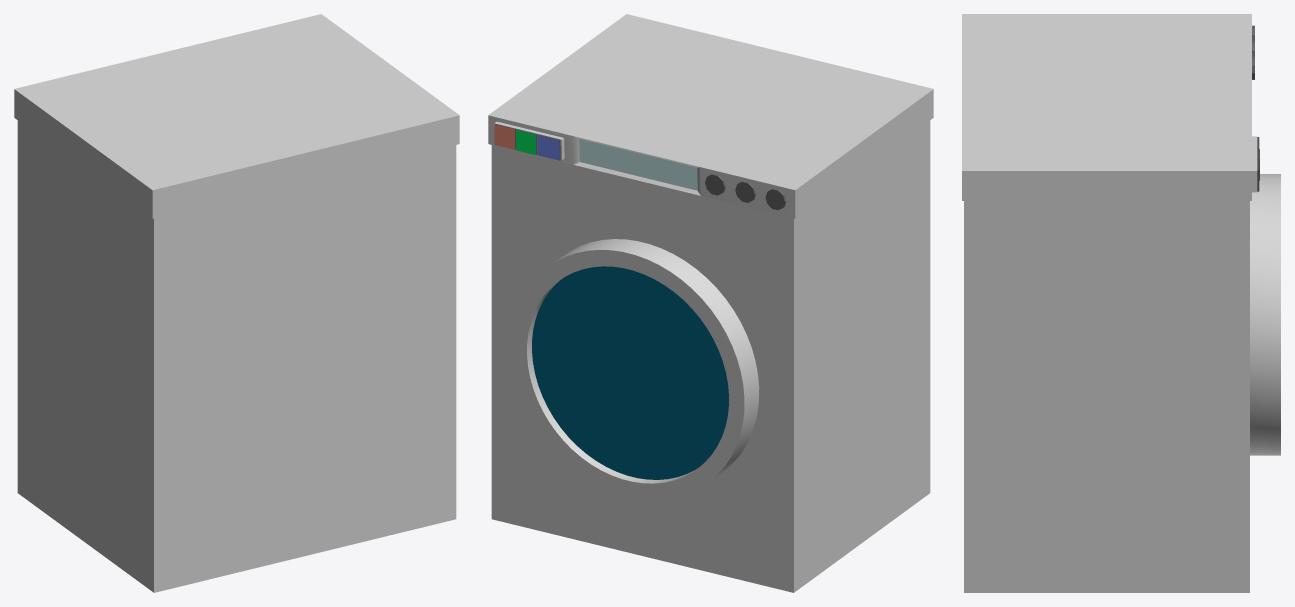
The model's file is washing_machine.glb.
3 views of the same model, side by side, from view 1: azimuth 30°, elevation 25°; view 2: azimuth 150°, elevation 25°; view 3: azimuth 270°, elevation 25° (orthographic). The views are drawn at different scales.
Visible parts, largest first — view 1: pCube16; view 2: pCube16; view 3: pCube16.
Part boxes in pixels (x1=…): pCube16: x1=14, y1=14, x2=459, y2=592; pCube16: x1=488, y1=14, x2=933, y2=592; pCube16: x1=962, y1=14, x2=1280, y2=592.
Size of the model in its own units: 0.0389 by 0.0489 by 0.0334.
